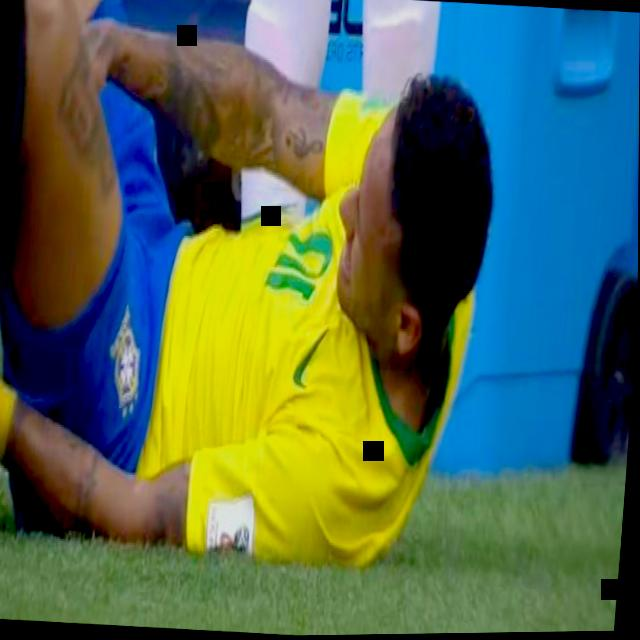Fall-Detected: (0, 0, 502, 589)
